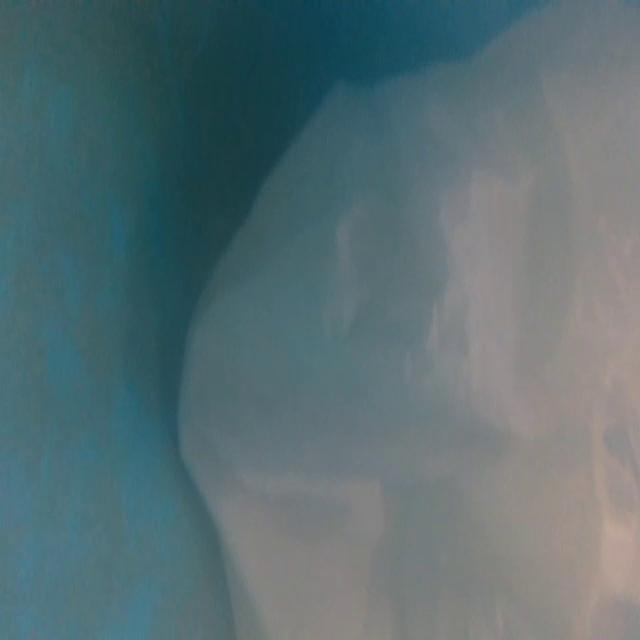plastic bags: (174, 22, 640, 640)
